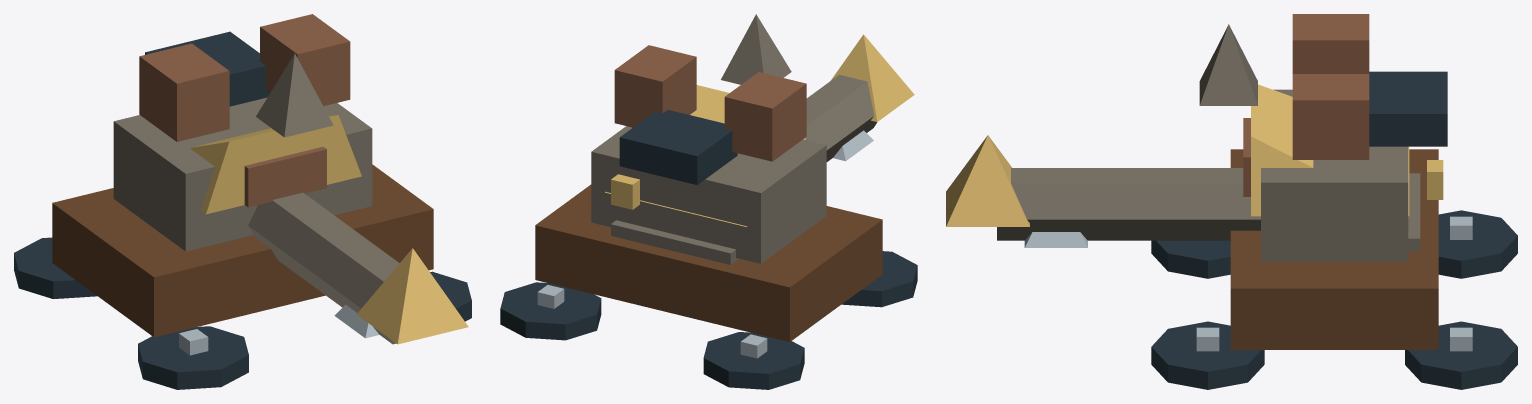
Rendered from battering-ram.obj.
3 renders of one model, left to right at view 1: azimuth 30°, elevation 25°; view 2: azimuth 150°, elevation 25°; view 3: azimuth 270°, elevation 25°, orthographic. The views are drawn at different scales.
Visible parts, largest first — view 1: siege; view 2: siege; view 3: siege.
Boxes of the visible parts, left/top/right/bottom form: siege: left=14, top=14, right=471, bottom=389; siege: left=500, top=14, right=917, bottom=389; siege: left=946, top=14, right=1517, bottom=389.
Size of the model in its own units: 2.1 by 1.72 by 3.13.
